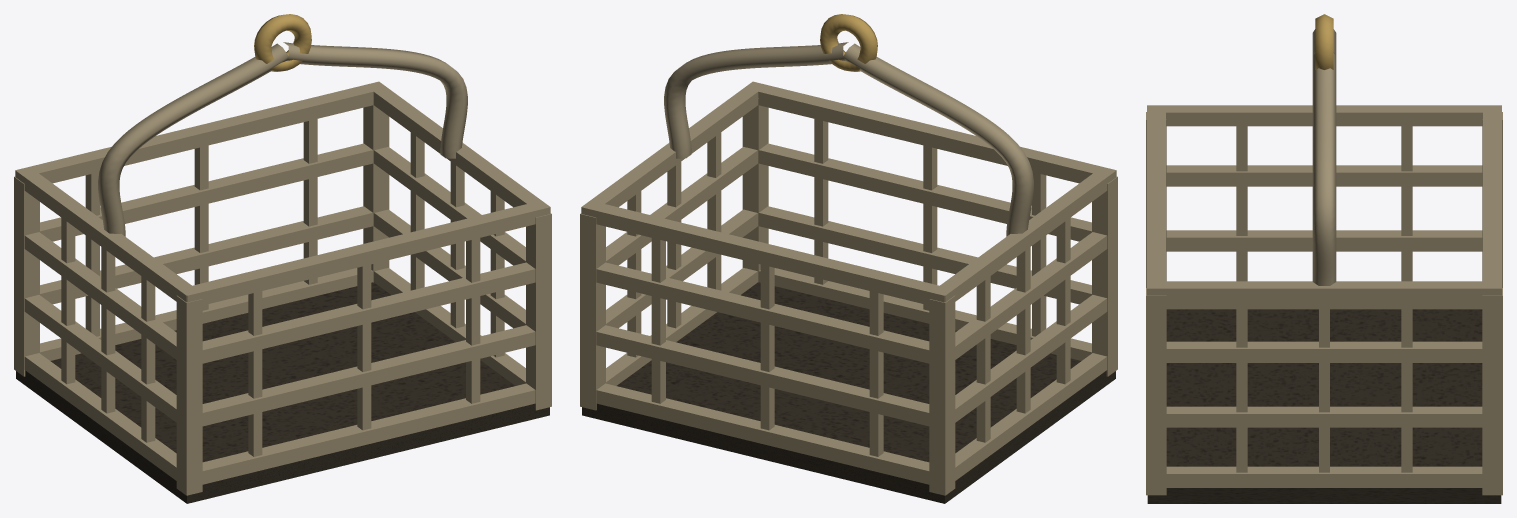
3 renders of one model, left to right at view 1: azimuth 30°, elevation 25°; view 2: azimuth 150°, elevation 25°; view 3: azimuth 270°, elevation 25°, orthographic. The views are drawn at different scales.
Visible parts, largest first — view 1: c-basket; view 2: c-basket; view 3: c-basket.
Part boxes in pixels (x1,y1,x2,y2): c-basket: (14, 14, 551, 503); c-basket: (580, 14, 1117, 503); c-basket: (1146, 14, 1502, 503).
Bounding box in the file's own units: 0.55 × 0.55 × 0.45.
Materials: 3 (1 with a texture image).
